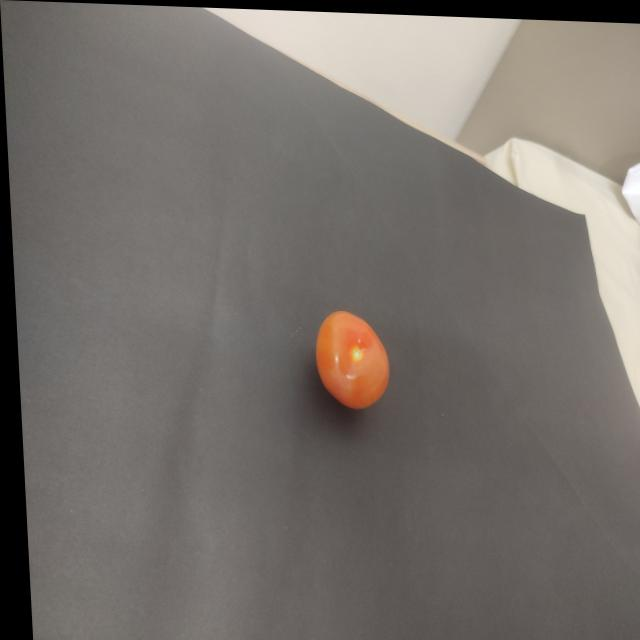sari: (291, 292, 410, 422)
